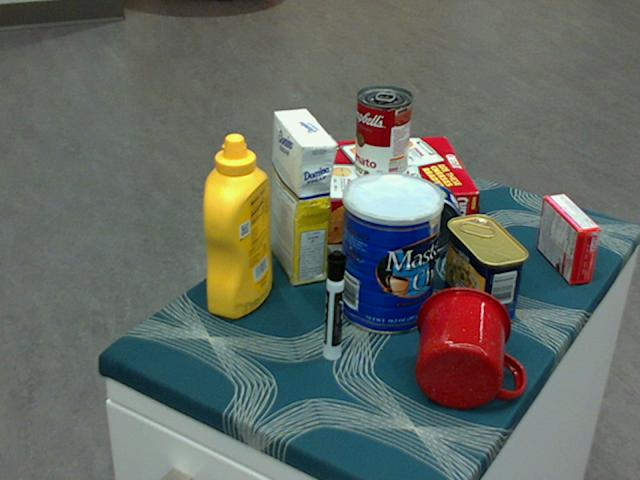cracker_box: (288, 135, 478, 248)
gelatin_box: (537, 194, 601, 285)
large_marker: (322, 250, 344, 362)
master_chef_can: (340, 171, 444, 335)
mug: (416, 285, 523, 409)
mustard_bottle: (202, 134, 273, 319)
potted_meat_can: (445, 214, 529, 325)
sugar_box: (270, 109, 334, 287)
tomato_soup_can: (356, 86, 413, 184)
tuna_fish_can: (389, 181, 462, 255)
